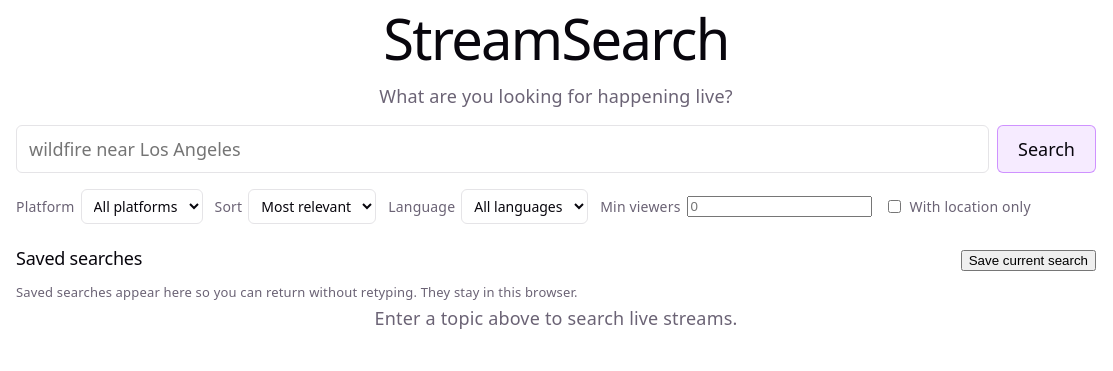
Test: rate-limit message is surfaced instead of a bare status code
Type "wildfire" into the search field.
click(502, 149); type("wildfire")  # box [16, 125, 989, 173]
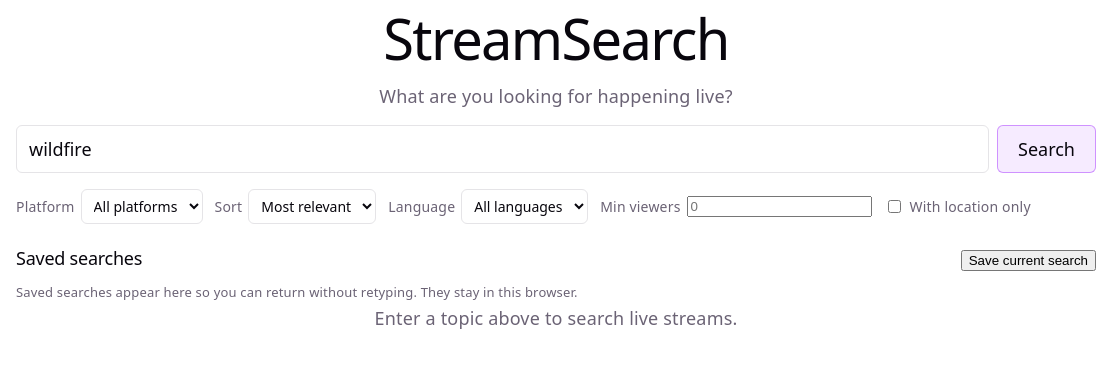
Submit the form, box [16, 125, 1096, 173]
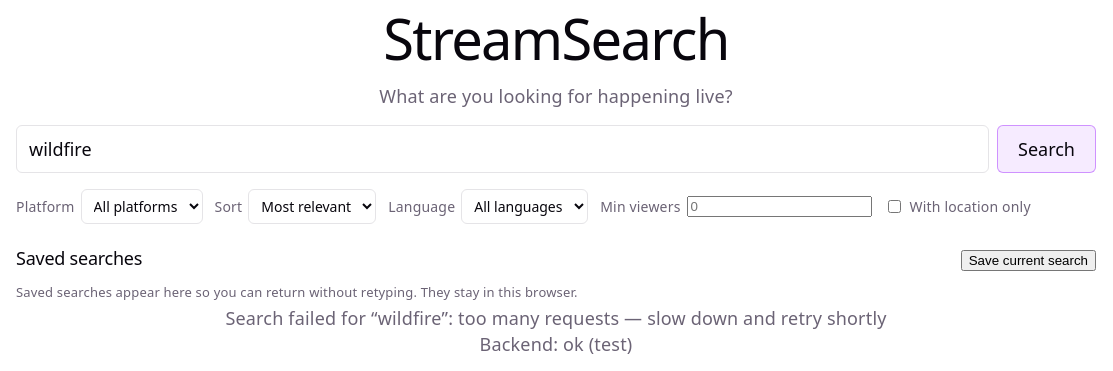
Expected: the text with test id "search-error" does not show "429", [225, 306, 886, 330]
Expected: the text with test id "search-error" shows "too many requests", [458, 306, 887, 330]
